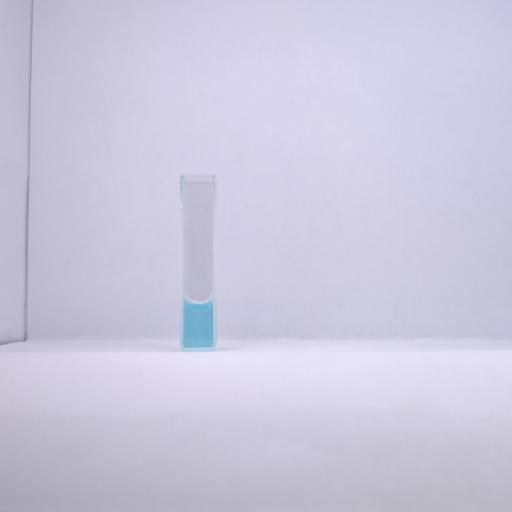cuvette: (178, 172, 218, 354)
liquid: (184, 301, 212, 349)
